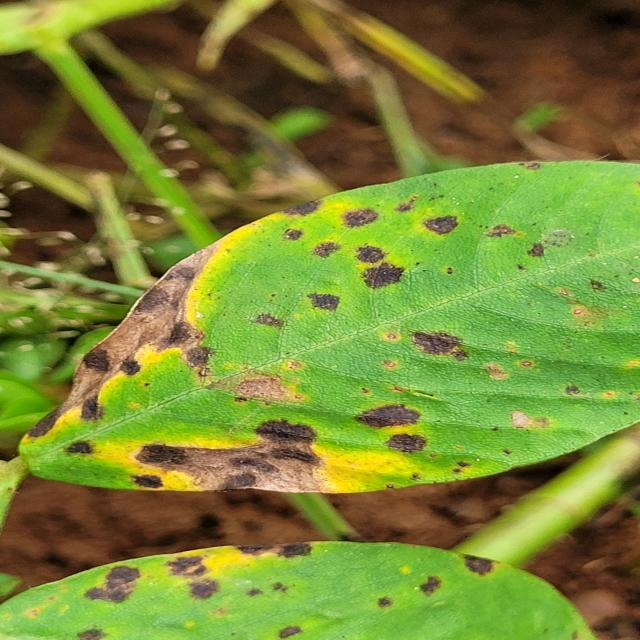Ground nut_tikka leaf spot: (0, 154, 640, 497), (1, 537, 592, 640)
